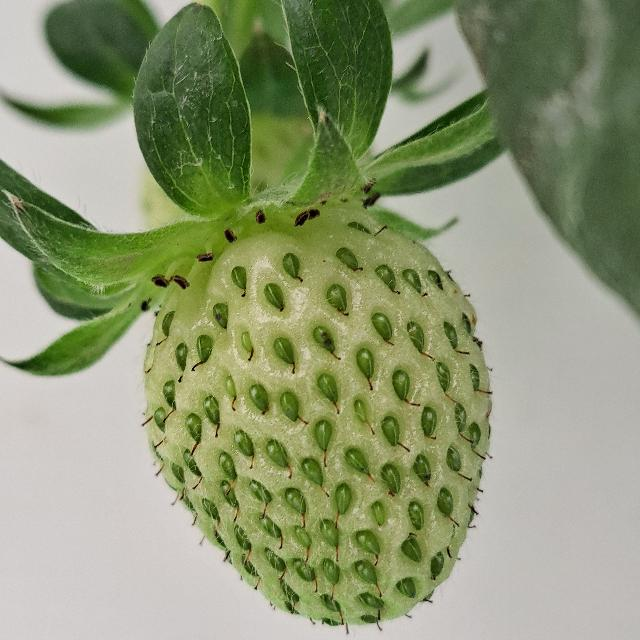Health_25: (142, 198, 492, 626)
